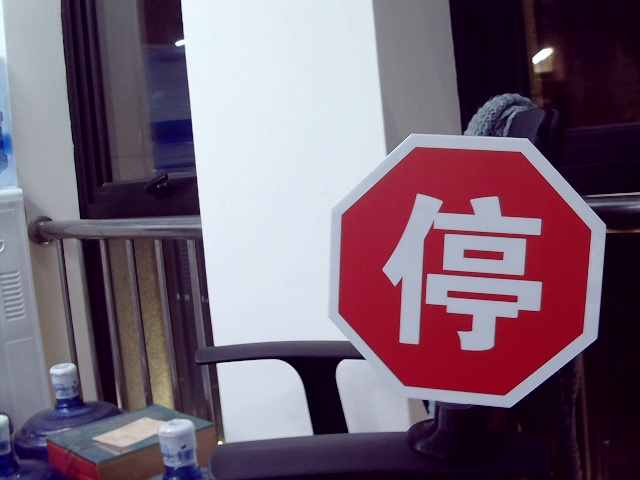stop: (384, 189, 549, 350)
